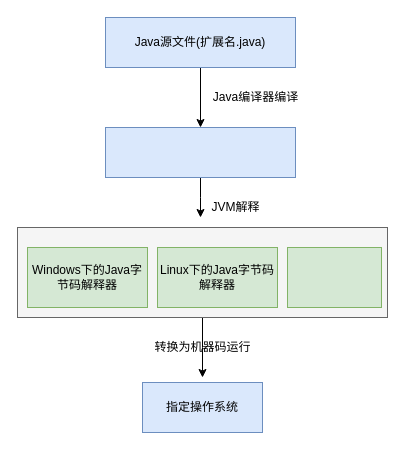
This 405x450 diagram has some shape labels left out. The centre of each missing label's shape, as x and y in pixels:
Java字节码文件(扩展名.class): pixel 200 152
其他系统下的Java字节码解释器: pixel 334 277
